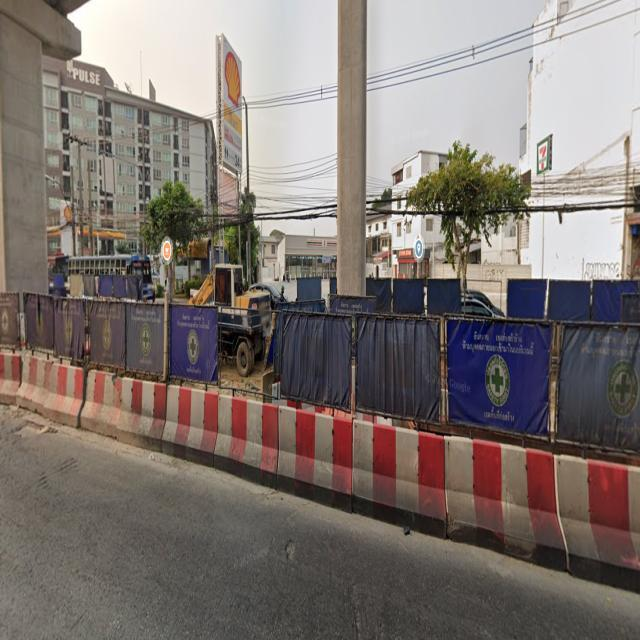fallen_object: (424, 396, 640, 589), (256, 392, 443, 537), (137, 370, 274, 492), (60, 353, 166, 464), (0, 347, 84, 436)
